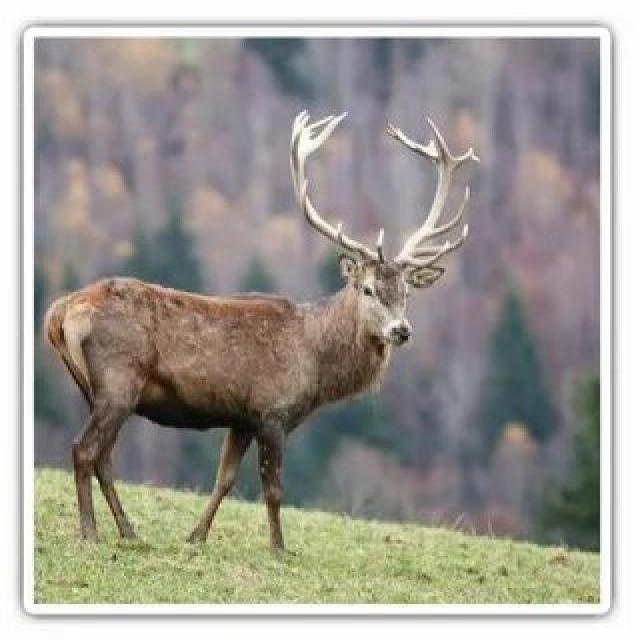deer: (0, 109, 479, 547)
